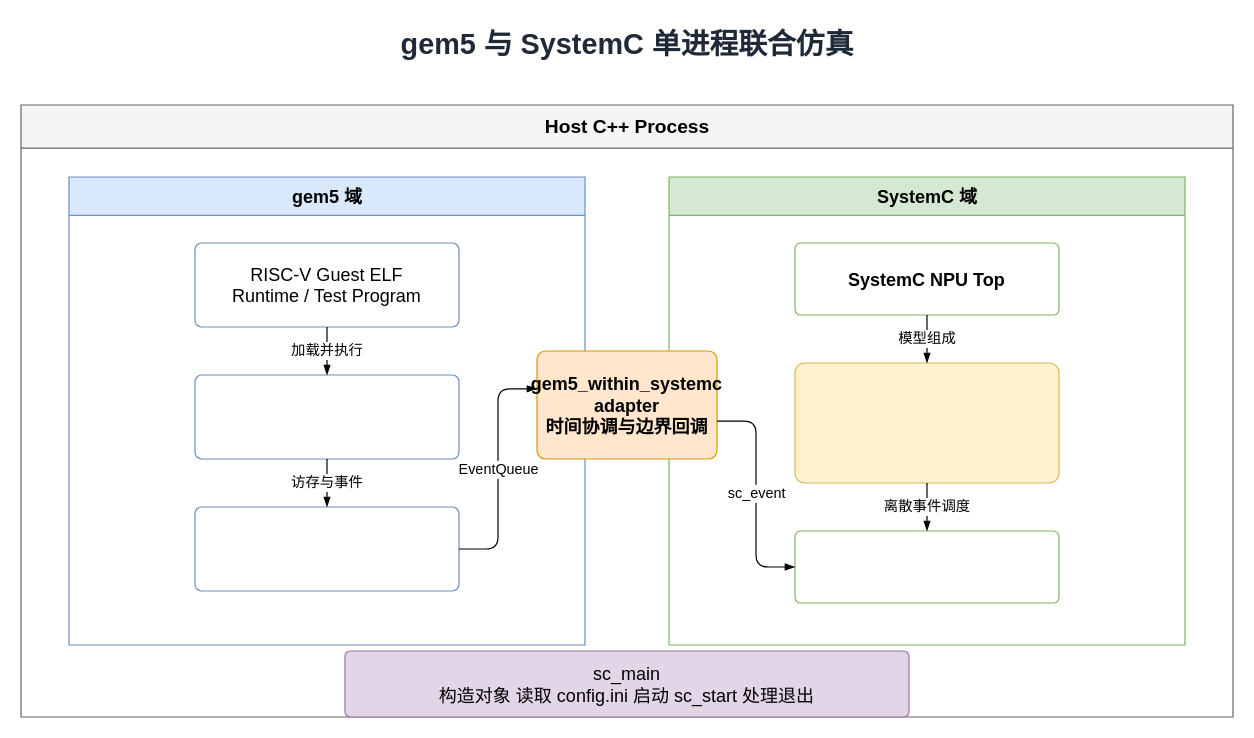
The diagram is 1254 pixels wide and 738 high, and some of its shapes have lost their labels. Each missing label, with the centre of its shape:
Cache / Bus / Memory gem5 EventQueue: (x=326, y=548)
RISC-V MinorCPU 取指 译码 执行: (x=326, y=416)
SystemC Kernel sc_event / sc_time: (x=926, y=566)
后续章节逐步加入 Bridge CMD SMEM DMA Compute SYNC Runtime: (x=926, y=422)
